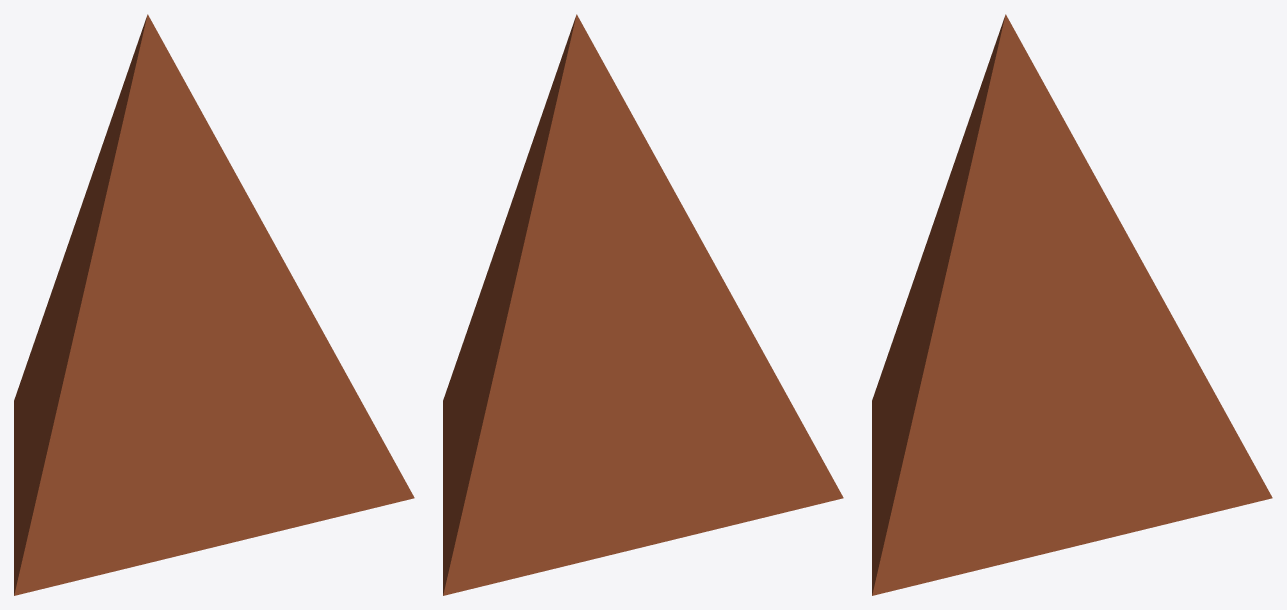
File: ClayShard.dae
3 views of the same model, side by side, from view 1: azimuth 30°, elevation 25°; view 2: azimuth 150°, elevation 25°; view 3: azimuth 270°, elevation 25° (orthographic).
Visible parts, largest first — view 1: ClayShard; view 2: ClayShard; view 3: ClayShard.
Part boxes in pixels (x1,y1,x2,y2): ClayShard: (14,14,414,595); ClayShard: (443,14,843,595); ClayShard: (872,14,1272,595).
Bounding box in the file's own units: 0.5821 × 0.5041 × 0.6722.
